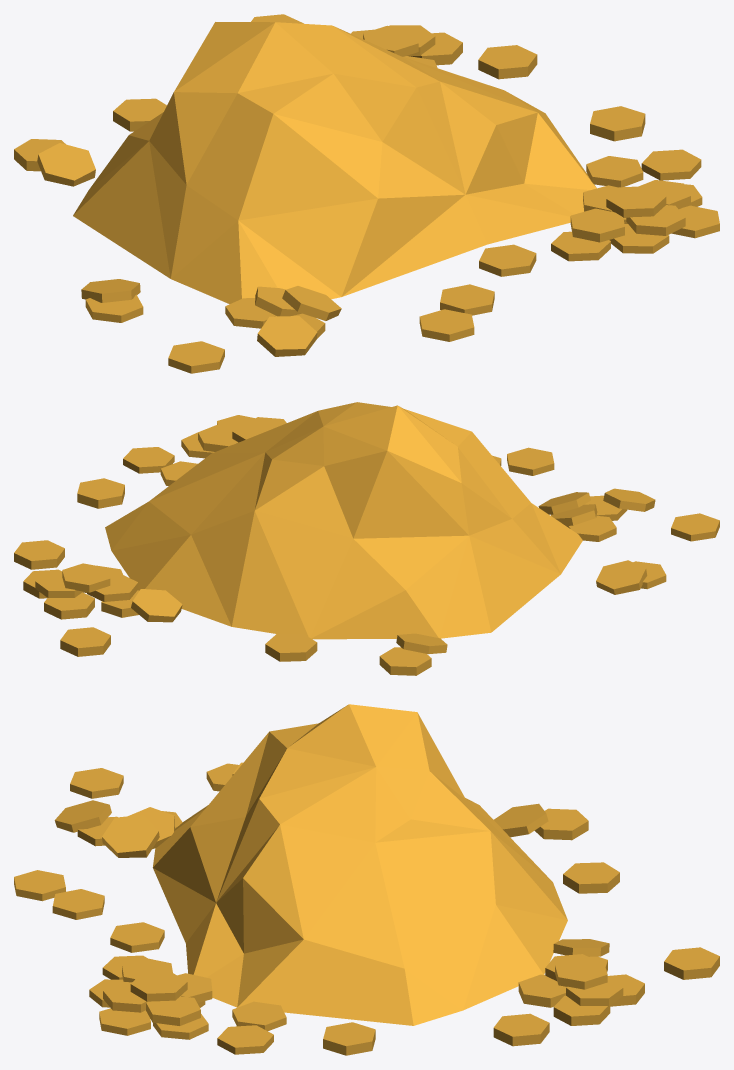
Rendered from TreasurePile_2.fbx.
3 views of the same model, one above another, from view 1: azimuth 30°, elevation 25°; view 2: azimuth 150°, elevation 25°; view 3: azimuth 270°, elevation 25° (orthographic). The views are drawn at different scales.
Visible parts, largest first — view 1: TreasurePile_2; view 2: TreasurePile_2; view 3: TreasurePile_2.
Boxes of the visible parts, x1,y1,x2,y2 form: TreasurePile_2: (14, 14, 719, 373); TreasurePile_2: (14, 402, 719, 675); TreasurePile_2: (14, 704, 719, 1055).
Bounding box in the file's own units: 73.28 × 21.67 × 76.67.
